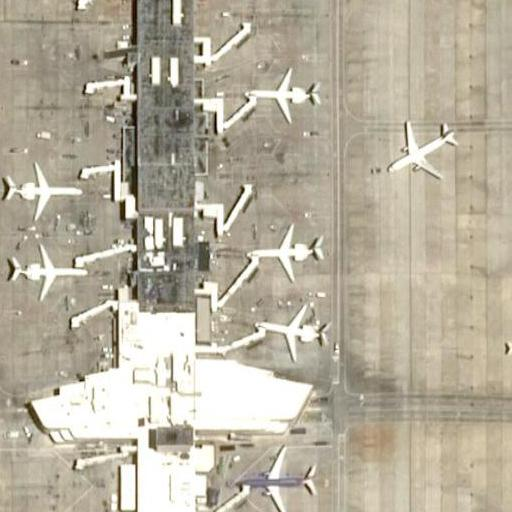Aircraft: (0, 232, 92, 297), (382, 113, 462, 187), (0, 156, 84, 224), (250, 294, 329, 366), (242, 217, 327, 280), (243, 61, 320, 126), (500, 323, 512, 372)
